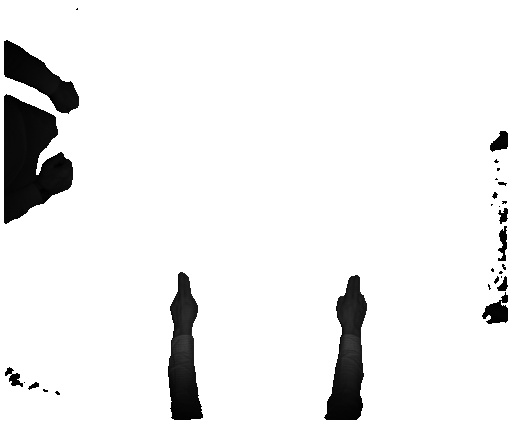fist: (41, 154, 79, 200), (51, 75, 79, 115)
hand: (168, 272, 199, 332), (336, 272, 367, 329)
